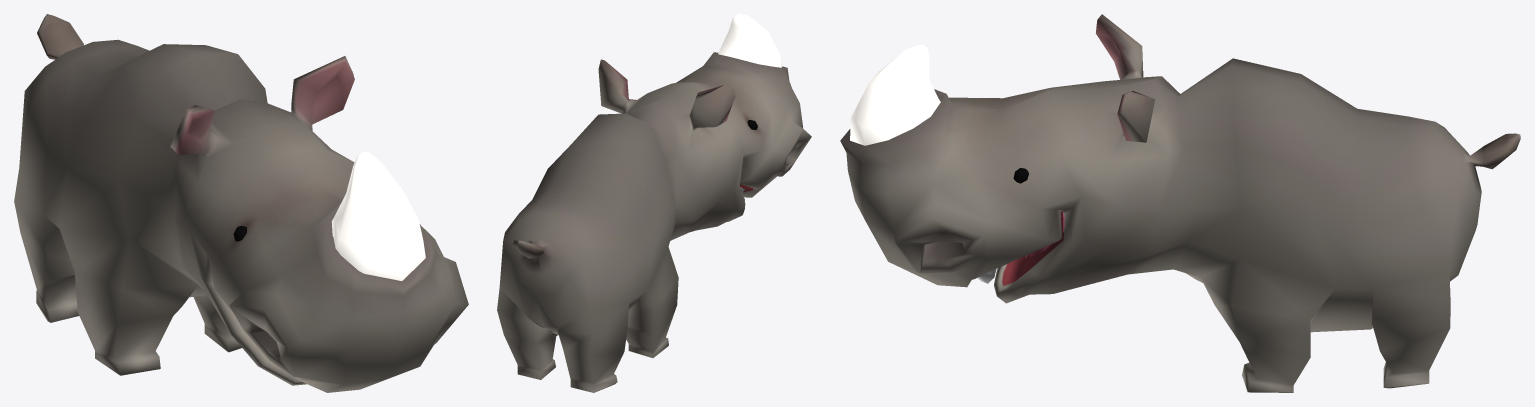
Rendered from Rhino_FBX.fbx.
3 renders of one model, left to right at view 1: azimuth 30°, elevation 25°; view 2: azimuth 150°, elevation 25°; view 3: azimuth 270°, elevation 25°, orthographic. The views are drawn at different scales.
Visible parts, largest first — view 1: RhinoCuerpoLOW, horn; view 2: RhinoCuerpoLOW, horn; view 3: RhinoCuerpoLOW, horn.
Part boxes in pixels (x1=…): RhinoCuerpoLOW: x1=14, y1=14, x2=468, y2=392; horn: x1=331, y1=152, x2=425, y2=280; RhinoCuerpoLOW: x1=497, y1=52, x2=811, y2=392; horn: x1=718, y1=14, x2=781, y2=67; RhinoCuerpoLOW: x1=840, y1=14, x2=1520, y2=392; horn: x1=850, y1=44, x2=940, y2=145.
Size of the model in its own units: 2.22 by 3.46 by 6.78.
5 materials, 1 textured.
